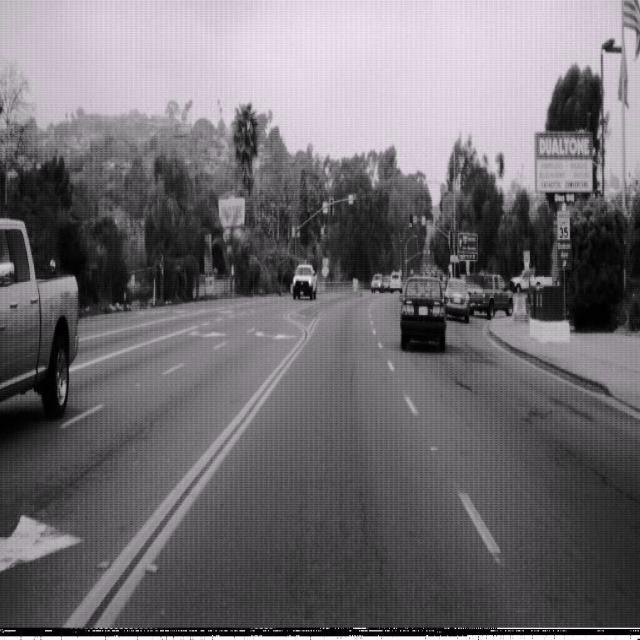speedLimit35: (556, 207, 570, 243)
